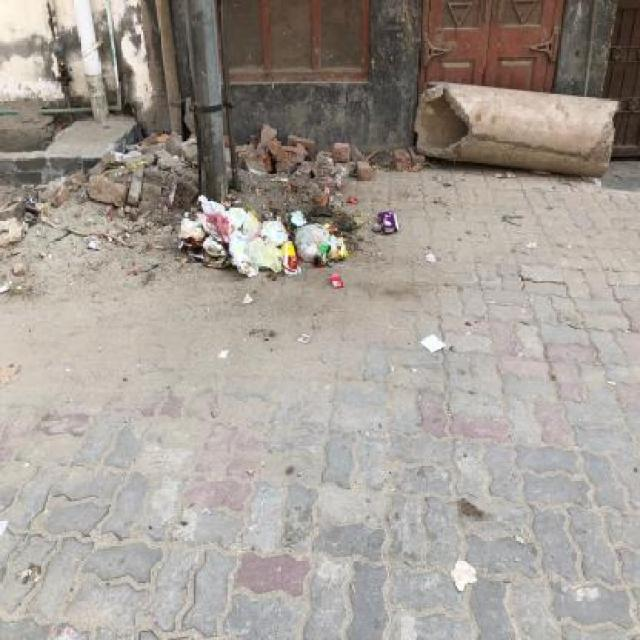garbage: (169, 191, 354, 290), (372, 208, 406, 239)
